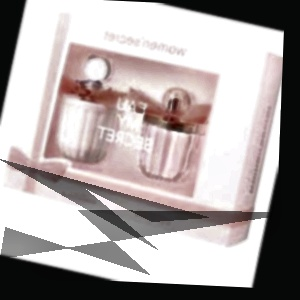women_secret: (153, 15, 246, 43)
